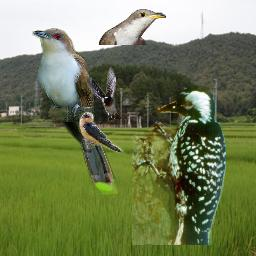Cuckoo: (32, 28, 118, 195), (99, 9, 166, 45)
Swallow: (79, 110, 125, 154), (86, 67, 123, 121)
Woodpecker: (132, 86, 226, 245)
